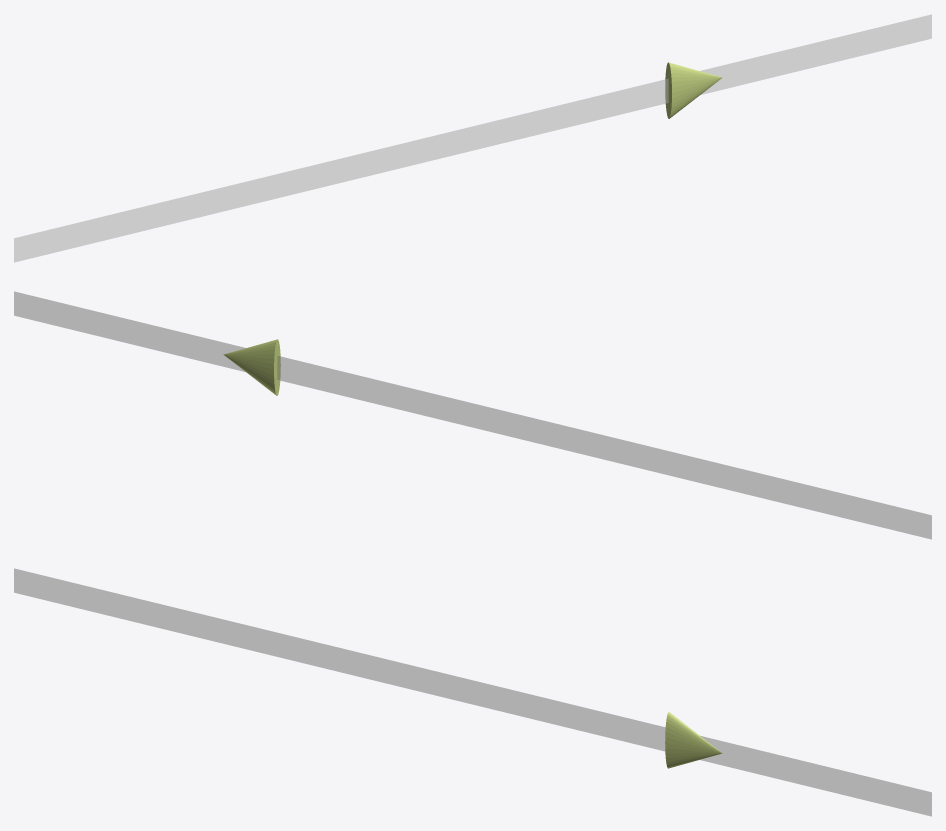
The model's file is LightRay.fbx.
3 renders of one model, top to bottom at view 1: azimuth 30°, elevation 25°; view 2: azimuth 150°, elevation 25°; view 3: azimuth 330°, elevation 25°, orthographic.
Parts seen in each view (by area): view 1: 平面, 锥体; view 2: 平面, 锥体; view 3: 平面, 锥体.
Boxes of the visible parts, left/top/right/bottom form: 平面: left=14, top=14, right=931, bottom=262; 锥体: left=665, top=62, right=722, bottom=118; 平面: left=14, top=291, right=931, bottom=539; 锥体: left=223, top=339, right=280, bottom=395; 平面: left=14, top=568, right=931, bottom=816; 锥体: left=665, top=712, right=722, bottom=768.
Bounding box in the file's own units: 3144 × 185 × 40.48.
